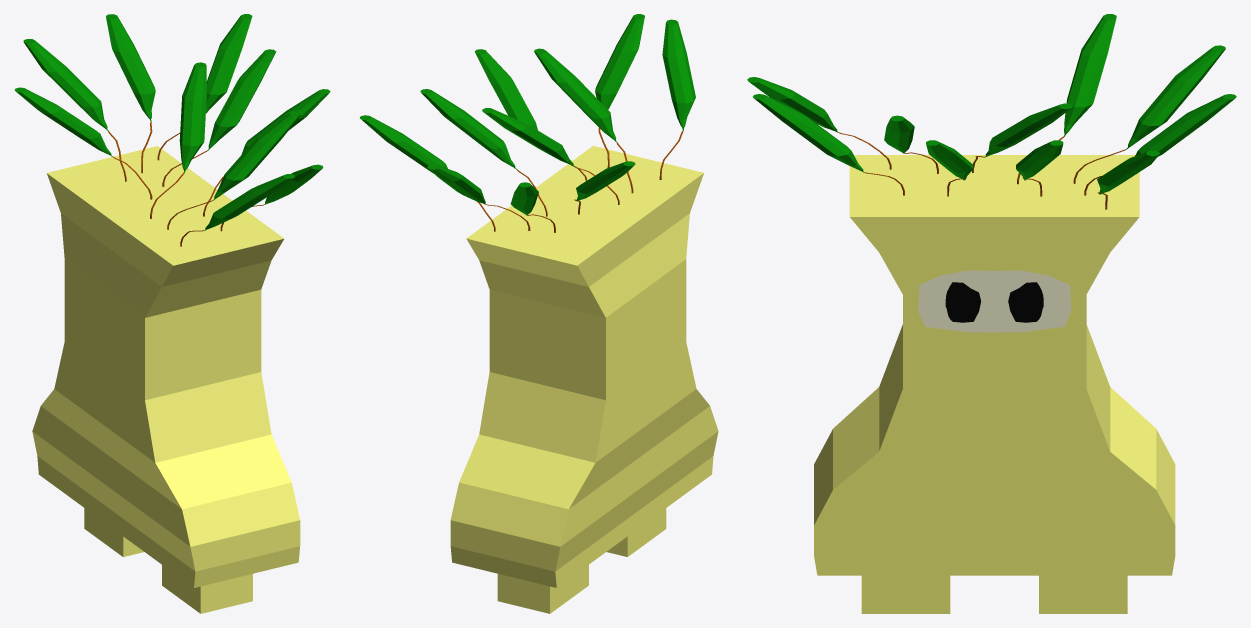
3 views of the same model, side by side, from view 1: azimuth 30°, elevation 25°; view 2: azimuth 150°, elevation 25°; view 3: azimuth 270°, elevation 25° (orthographic). The views are drawn at different scales.
Visible parts, largest first — view 1: Palmer; view 2: Palmer; view 3: Palmer.
Part boxes in pixels (x1,y1,x2,y2): Palmer: (14,14,330,613); Palmer: (360,14,718,613); Palmer: (747,14,1236,613).
Bounding box in the file's own units: 0.7813 × 1.35 × 1.14.
Materials: 1 (1 with a texture image).
